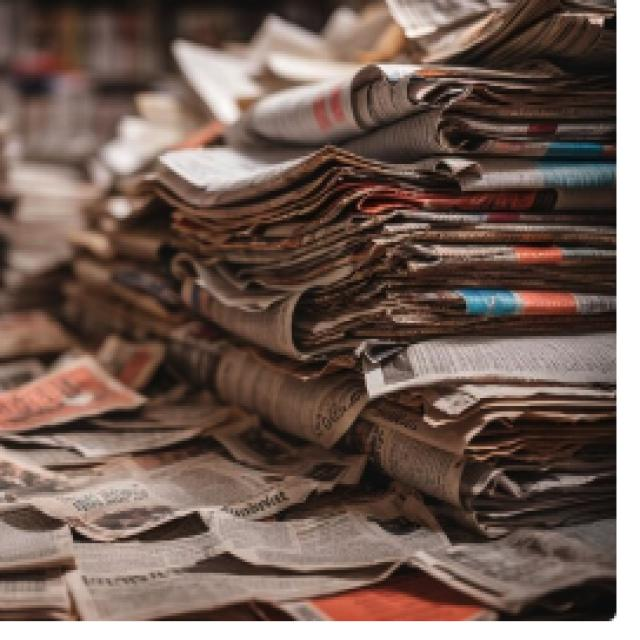Koran: (0, 0, 616, 618)
